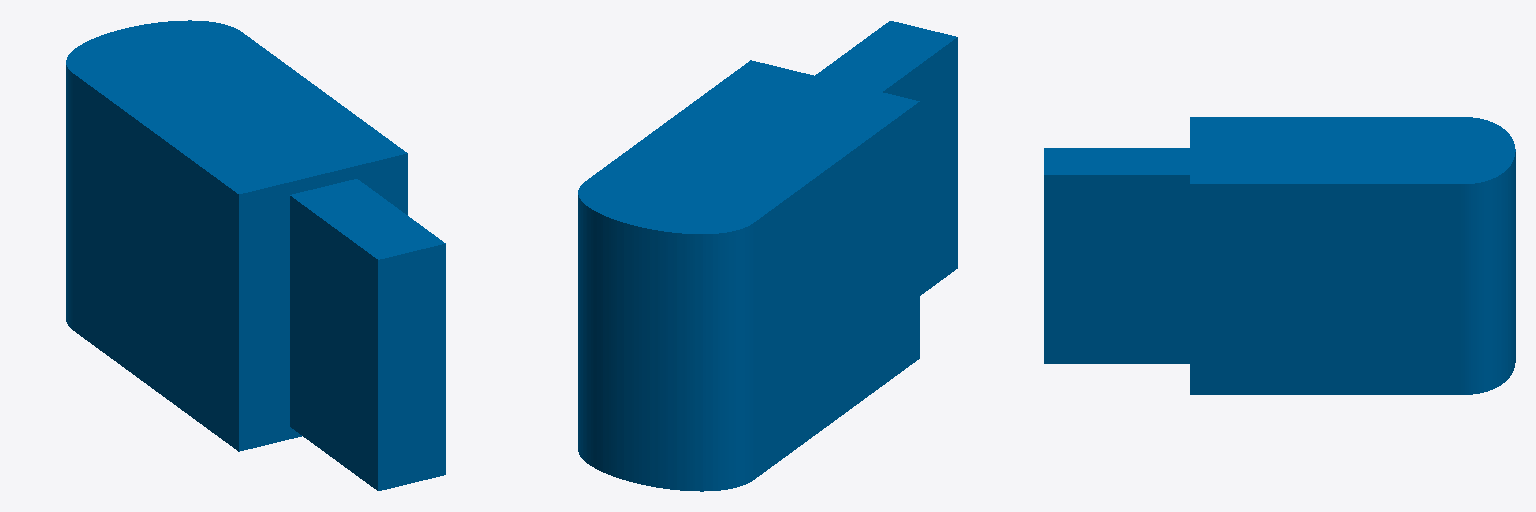
robot.urdf — 2v2_1.2_1.1_10.8_1.1:
<?xml version="1.0" ?>
<robot name="2v2_1.2_1.1_10.8_1.1">

    <link name="palm">
        <visual>
            <origin rpy="0 0 0" xyz="0 0 0"/>
            <geometry>
                <mesh filename="obj_files/palm.obj" scale="1 1 1"/>
            </geometry>
        </visual>
        <collision>
            <geometry>
                <mesh filename="obj_files/palm_collision.obj" scale="1 1 1"/>
            </geometry>
        </collision>
    </link>

    <link name="finger0_segment0">
        <visual>
            <origin rpy="0 0 0" xyz="0 0 0"/>
            <geometry>
                <mesh filename="obj_files/finger0_segment0.obj" scale="1 1 1"/>
            </geometry>
        </visual>
        <collision>
            <geometry>
                <mesh filename="obj_files/finger0_segment0_collision.obj" scale="1 1 1"/>
            </geometry>
        </collision>
    </link>

    <joint name="finger0_segment0_joint" type="revolute">
        <parent link="palm"/>
        <child link="finger0_segment0"/>
        <origin rpy="0 0 0" xyz="0.02675 0 0.0"/>
        <axis xyz="0 0 1"/>
        <limit effort="1000.0" lower="-3.14" upper="3.14" velocity="0.5"/>
    </joint>

    <link name="finger0_segment1">
        <visual>
            <origin rpy="0 0 0" xyz="0 0 0"/>
            <geometry>
                <mesh filename="obj_files/finger0_segment1.obj" scale="1 1 1"/>
            </geometry>
        </visual>
        <collision>
            <geometry>
                <mesh filename="obj_files/finger0_segment1_collision.obj" scale="1 1 1"/>
            </geometry>
        </collision>
    </link>

    <joint name="finger0_segment1_joint" type="revolute">
        <parent link="finger0_segment0"/>
        <child link="finger0_segment1"/>
        <origin rpy="0 0 0" xyz="0 0.10319999999999999 0"/>
        <axis xyz="0 0 1"/>
        <limit effort="1000.0" lower="-3.14" upper="3.14" velocity="0.5"/>
    </joint>

    <link name="finger1_segment0">
        <visual>
            <origin rpy="0 0 0" xyz="0 0 0"/>
            <geometry>
                <mesh filename="obj_files/finger1_segment0.obj" scale="1 1 1"/>
            </geometry>
        </visual>
        <collision>
            <geometry>
                <mesh filename="obj_files/finger1_segment0_collision.obj" scale="1 1 1"/>
            </geometry>
        </collision>
    </link>

    <joint name="finger1_segment0_joint" type="revolute">
        <parent link="palm"/>
        <child link="finger1_segment0"/>
        <origin rpy="0 0 0" xyz="-0.02675 0 3.27593018771917e-18"/>
        <axis xyz="0 0 1"/>
        <limit effort="1000.0" lower="-3.14" upper="3.14" velocity="0.5"/>
    </joint>

    <link name="finger1_segment1">
        <visual>
            <origin rpy="0 0 0" xyz="0 0 0"/>
            <geometry>
                <mesh filename="obj_files/finger1_segment1.obj" scale="1 1 1"/>
            </geometry>
        </visual>
        <collision>
            <geometry>
                <mesh filename="obj_files/finger1_segment1_collision.obj" scale="1 1 1"/>
            </geometry>
        </collision>
    </link>

    <joint name="finger1_segment1_joint" type="revolute">
        <parent link="finger1_segment0"/>
        <child link="finger1_segment1"/>
        <origin rpy="0 0 0" xyz="0 0.0648 0"/>
        <axis xyz="0 0 1"/>
        <limit effort="1000.0" lower="-3.14" upper="3.14" velocity="0.5"/>
    </joint>

</robot>

--- Facts derived from the render (not from the file) ---
The picture shows the robot from 3 angles, left to right: view 1: azimuth 30°, elevation 25°; view 2: azimuth 150°, elevation 25°; view 3: azimuth 270°, elevation 25°; orthographic projection.
Model 2v2_1.2_1.1_10.8_1.1 with 5 links and 4 joints (4 revolute), rooted at palm, posed every joint at zero.
Visible links, largest first — view 1: finger1_segment1; view 2: finger1_segment1; view 3: finger1_segment1.
Boxes of the visible links, x1=… form: finger1_segment1: x1=66, y1=20, x2=445, y2=490; finger1_segment1: x1=578, y1=21, x2=957, y2=491; finger1_segment1: x1=1044, y1=117, x2=1515, y2=394.
Bounding box of the posed robot: 0.022 × 0.0648 × 0.032 m (x, y, z).
1 mesh visuals loaded from 5 distinct referenced files (1 OBJ); not drawn: 4 (reference not matched to a file when rendering).